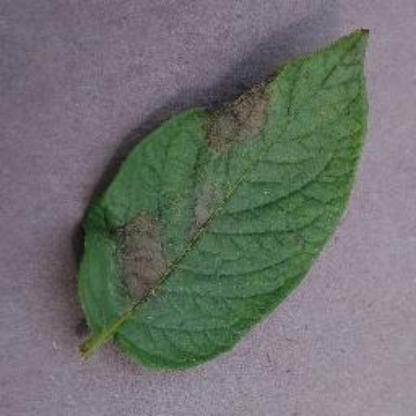Late-Blight: (66, 20, 386, 366)
